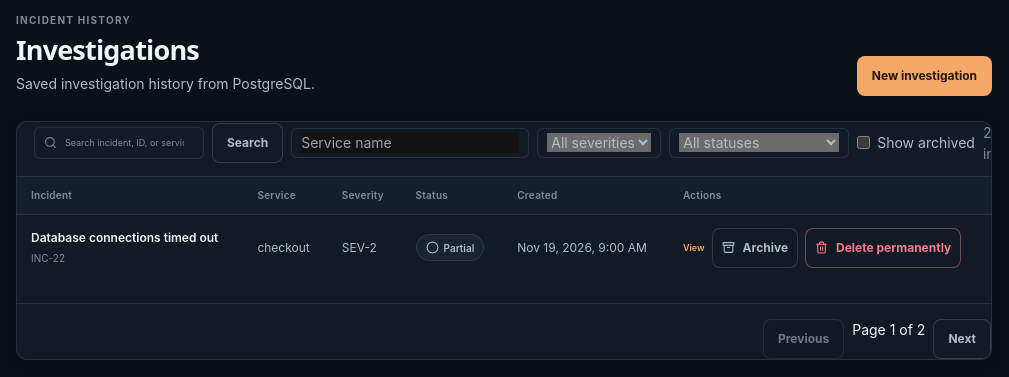
Test: investigation history › permanently deletes a record after confirmation
The width and height of the screenshot is (1009, 377).
Expected: the link "Database connections timed out" is shown, [31,229,229,247]
Click the button named "Delete investigation Database connections timed out permanently": (883, 248) [805,228,961,268]
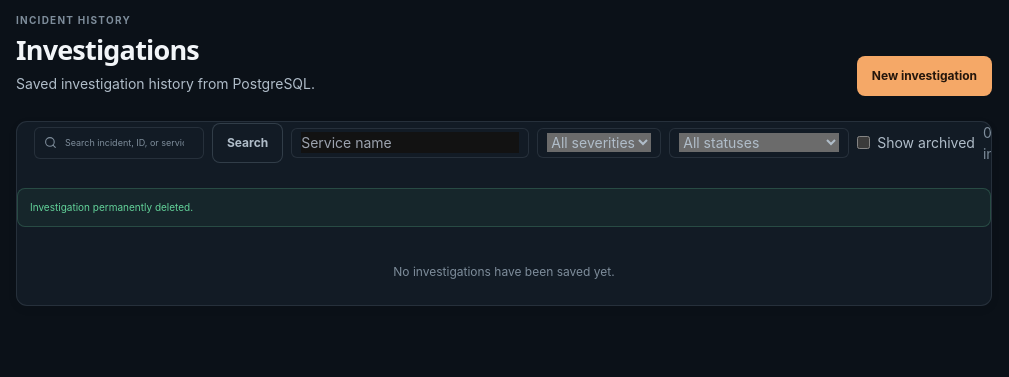
Now the text "Investigation permanently deleted." is shown, box [17,188,991,227]
Now the text "No investigations have been saved yet." is shown, box [393,264,615,279]
